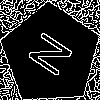N: (26, 29, 83, 85)
